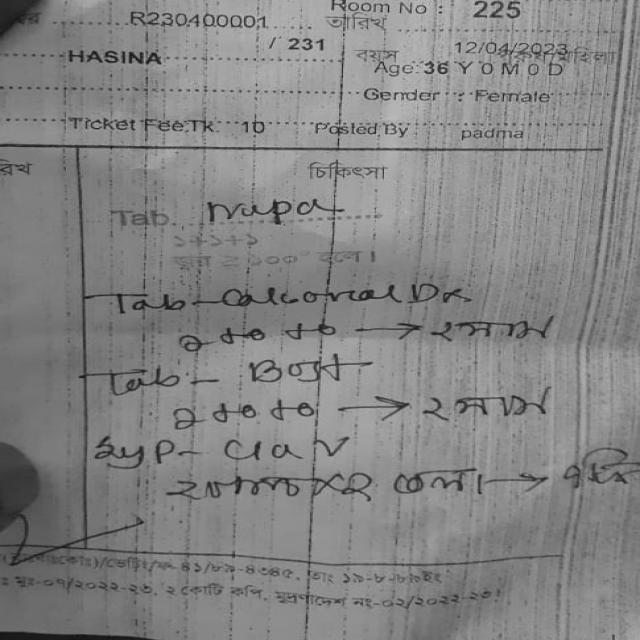medicine: (213, 280, 472, 310), (219, 432, 354, 464), (239, 354, 363, 388)
